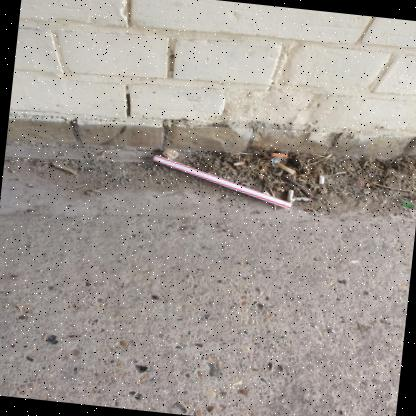Broken glass: (271, 155, 283, 167), (402, 202, 414, 209)
Cigarette: (275, 162, 296, 174), (267, 152, 287, 158), (286, 190, 293, 203), (292, 197, 310, 202), (232, 161, 245, 166), (318, 175, 324, 185)
Plastic straw: (153, 155, 292, 209)
